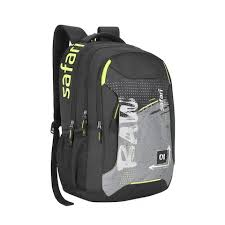backpack: (50, 24, 175, 206)
